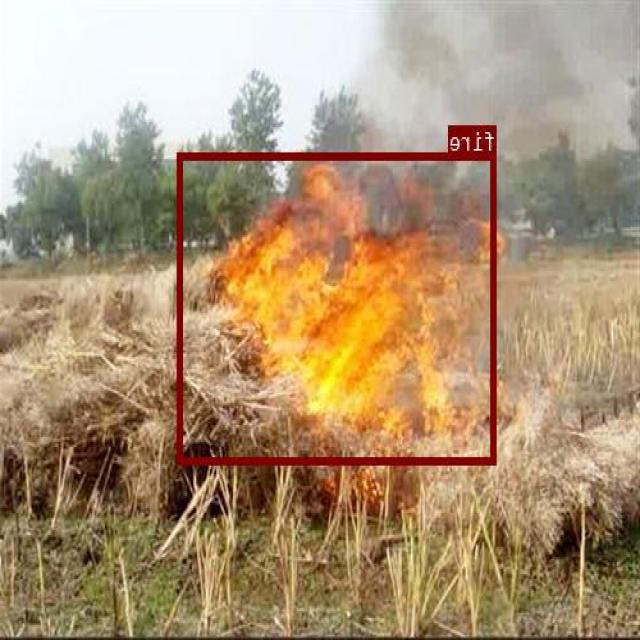fire: (178, 152, 496, 462)
